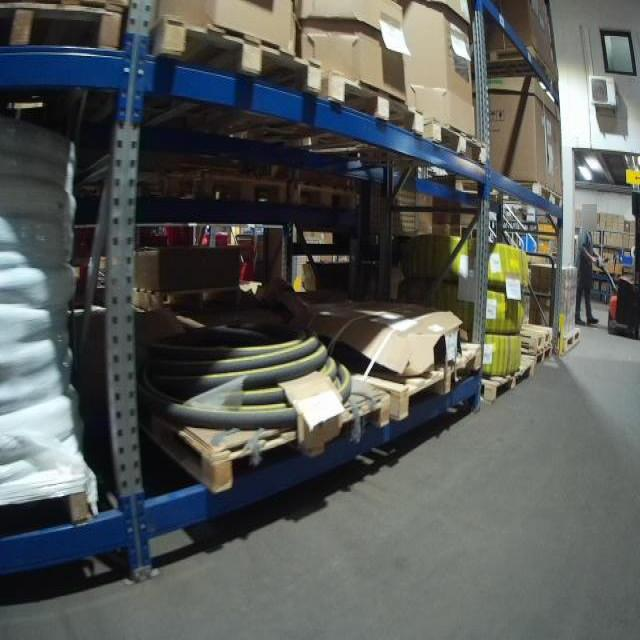pallet: (136, 377, 390, 496), (145, 15, 325, 100), (359, 333, 484, 425), (325, 67, 427, 139), (425, 116, 488, 167), (484, 43, 557, 87), (131, 285, 241, 313), (482, 357, 535, 408), (203, 172, 287, 204), (293, 177, 358, 209), (518, 179, 565, 209), (519, 318, 554, 352), (523, 342, 553, 367), (560, 327, 584, 356)
pallet_truck: (588, 188, 639, 346)
